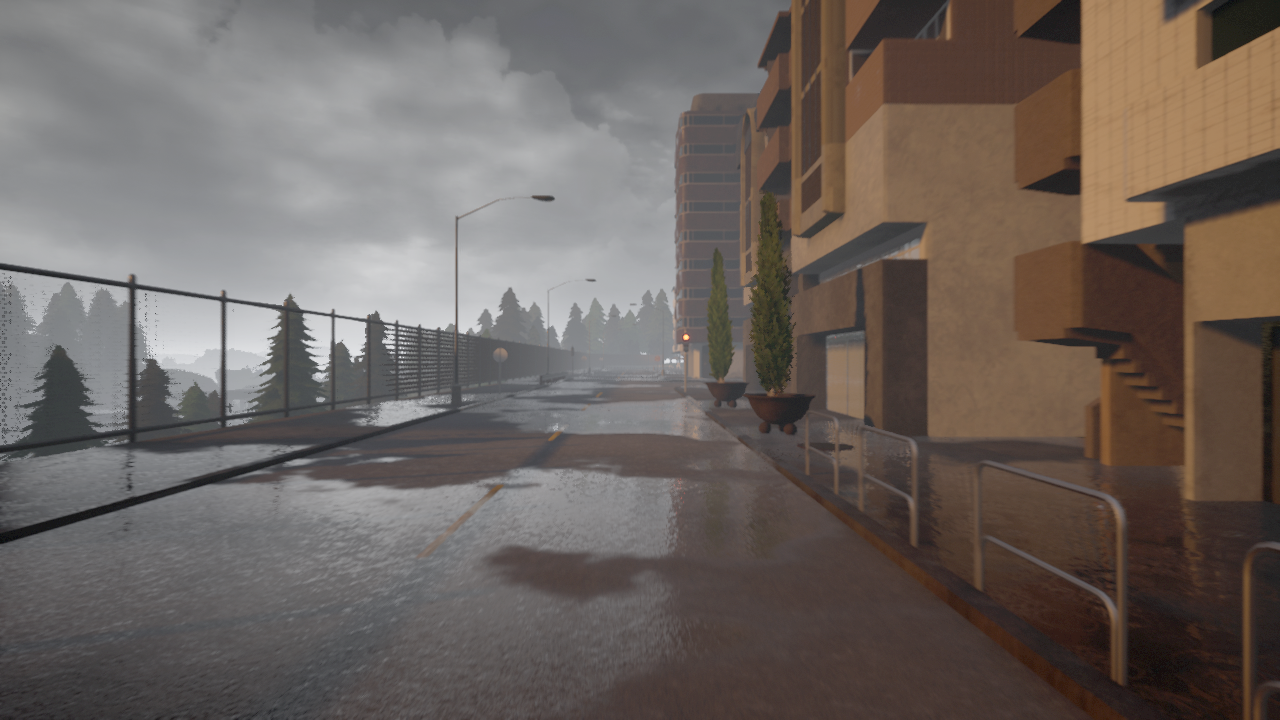red: (681, 333, 690, 352)
